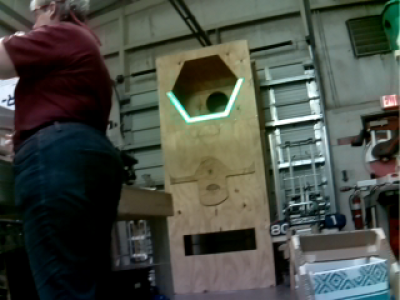target: (167, 78, 244, 122)
